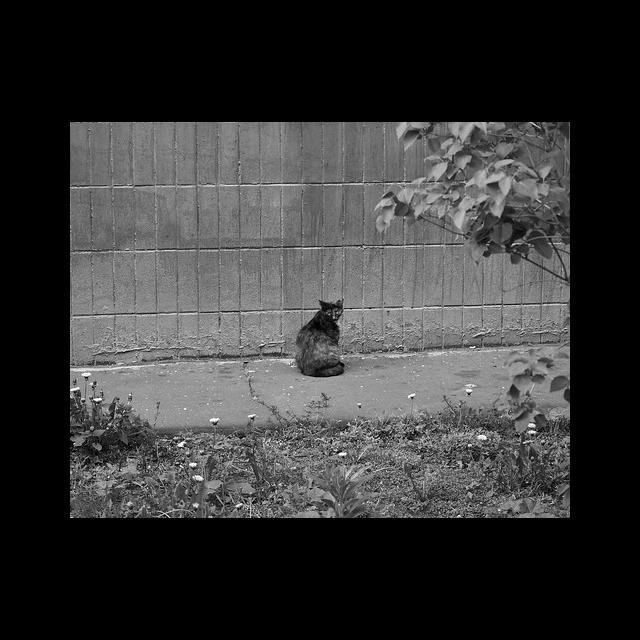animals: (294, 298, 346, 376)
